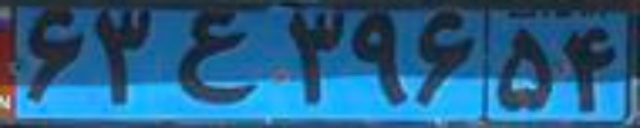3: (95, 6, 153, 105), (286, 11, 341, 103)
4: (564, 28, 617, 111)
5: (494, 28, 554, 110)
6: (28, 6, 87, 103), (413, 11, 471, 104)
9: (350, 14, 408, 103)
ain: (177, 8, 257, 104)
